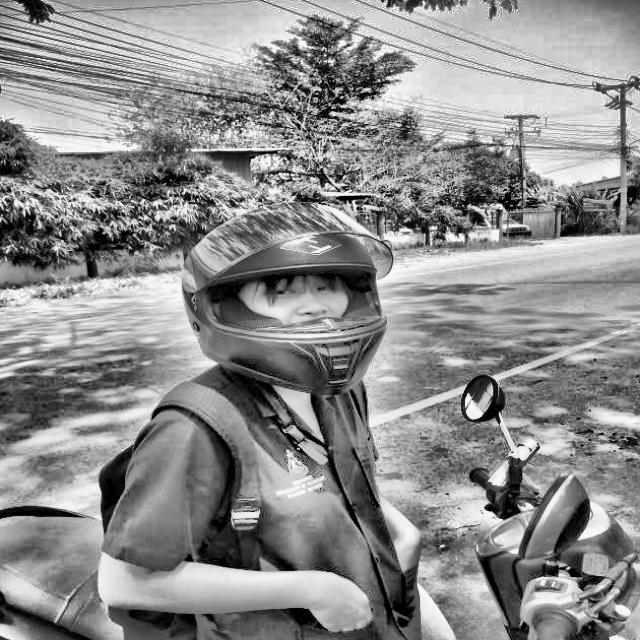Helmet: (175, 196, 399, 401)
